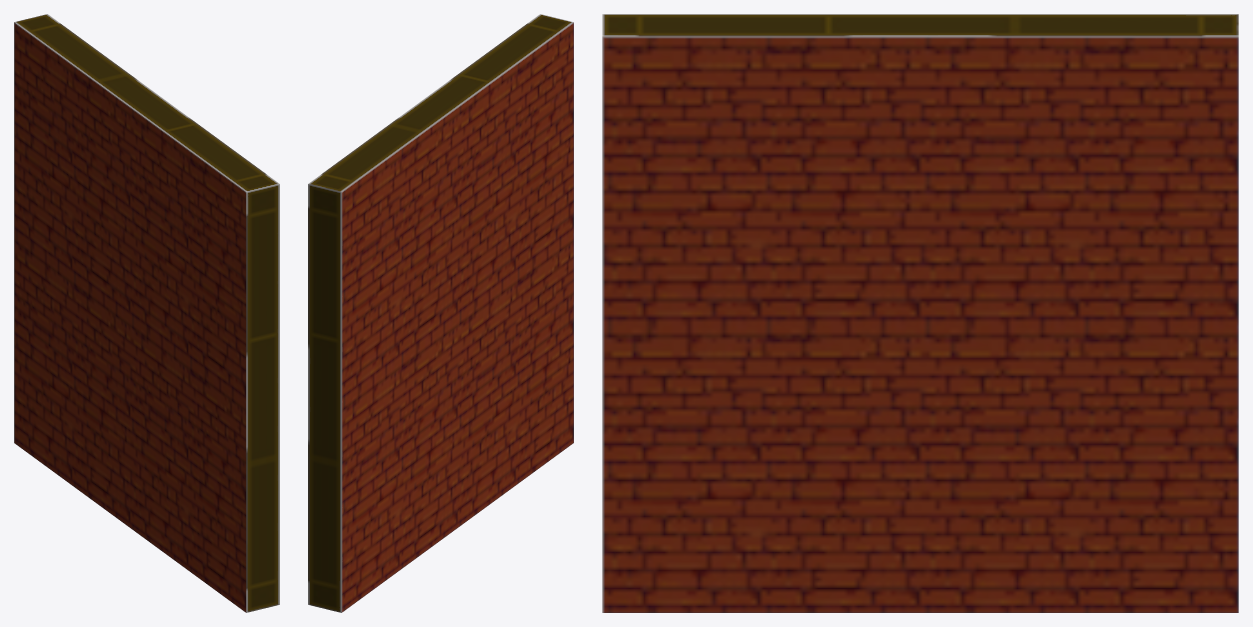
The model's file is Wall_13.fbx.
3 renders of one model, left to right at view 1: azimuth 30°, elevation 25°; view 2: azimuth 150°, elevation 25°; view 3: azimuth 270°, elevation 25°, orthographic. The views are drawn at different scales.
Parts seen in each view (by area): view 1: Wall_13; view 2: Wall_13; view 3: Wall_13.
Boxes of the visible parts, x1,y1,x2,y2 form: Wall_13: (14, 14, 279, 612); Wall_13: (308, 14, 573, 612); Wall_13: (602, 14, 1238, 612).
Bounding box in the file's own units: 50 × 600 × 600.
